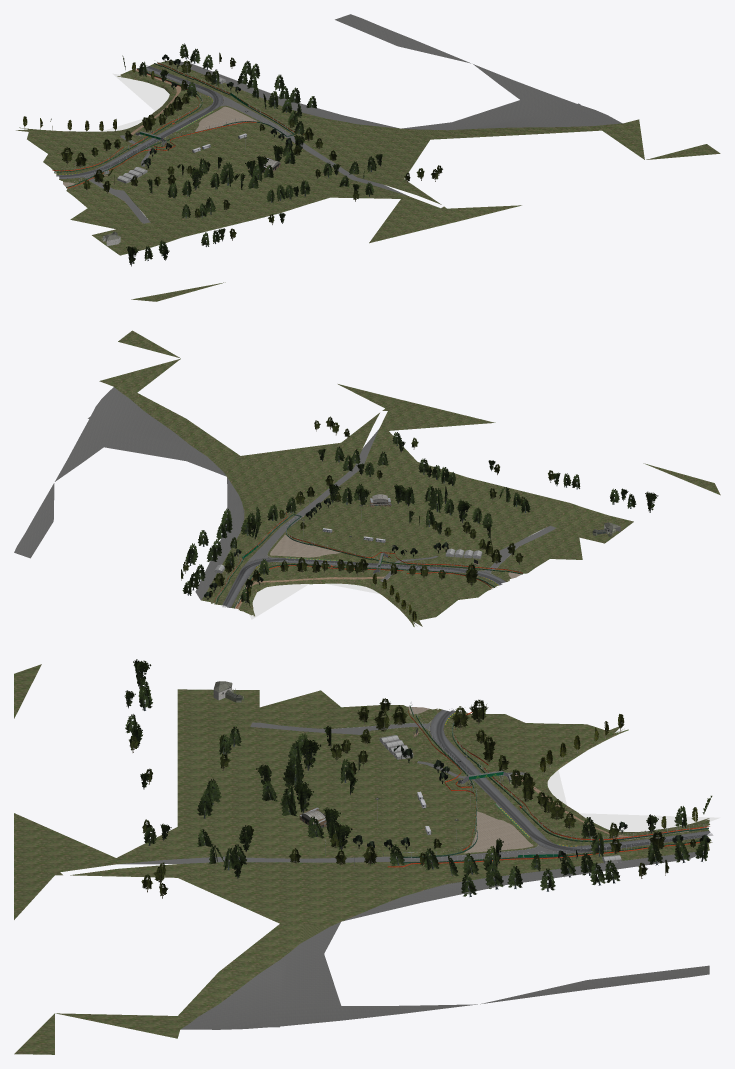
3 renders of one model, top to bottom at view 1: azimuth 30°, elevation 25°; view 2: azimuth 150°, elevation 25°; view 3: azimuth 270°, elevation 25°, orthographic. The views are drawn at different scales.
Visible parts, largest first — view 1: tile_t13; view 2: tile_t13; view 3: tile_t13.
Part boxes in pixels (x1,y1,x2,y2): tile_t13: [16, 14, 720, 301]; tile_t13: [14, 330, 720, 626]; tile_t13: [14, 659, 720, 1054].
Size of the model in its own units: 752 by 35.4 by 553.
34 materials, 33 textured.
